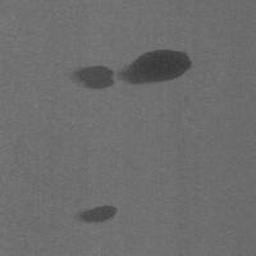Oil spot: (69, 49, 193, 90), (77, 205, 118, 224)
